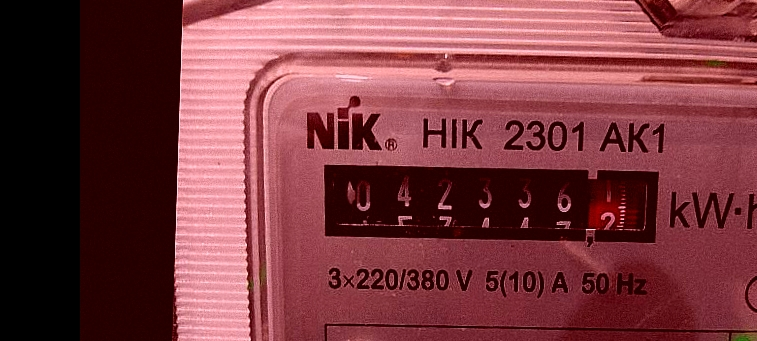0: (353, 177, 374, 212)
1: (601, 175, 615, 205)
2: (434, 175, 455, 212), (597, 209, 617, 231)
3: (475, 172, 495, 211), (513, 174, 534, 210)
4: (394, 171, 414, 209)
6: (552, 178, 575, 214)
screen: (314, 151, 669, 254)
